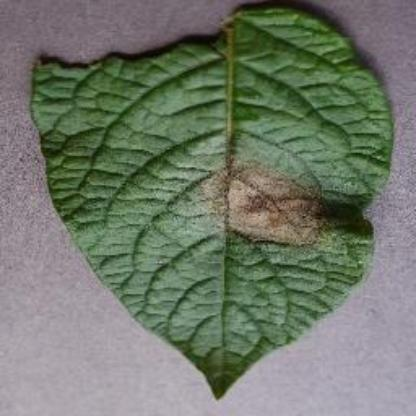Late-Blight: (28, 3, 394, 397)
